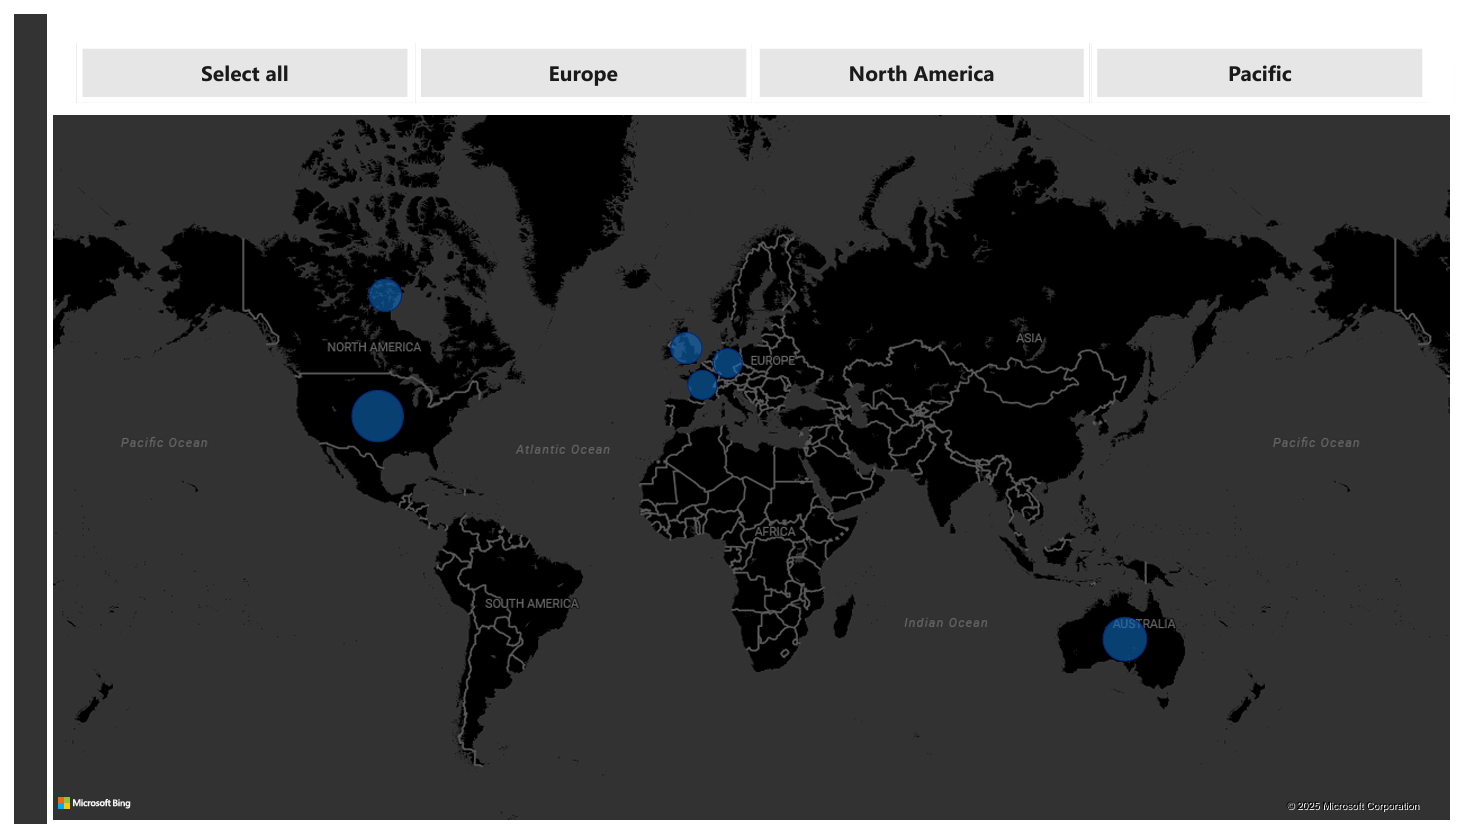

The dashboard page shown, as its layout file describes it:
{"tool":"powerbi","page":{"name":"MAP","canvas":[1280,720],"ordinal":1},"visuals":[{"type":"shape","box":[0,0,28.6,720],"z":0},{"type":"slicer","fields":{"Values":["Territory Lookup.Continent"]},"box":[28.6,18.3,1251.4,66.3],"z":1000},{"type":"map","fields":{"Category":["Territory Lookup.Country"],"Size":["Explicit Measure.Distinct Order"]},"box":[29,84,1251,636],"z":2000}]}

Visuals, with their boxes in screenshot pixels (x1, y1, x2, y2), scaled from the page's 1280x720 canvas onto the 1470x832 screenshot:
shape: select_region(0, 0, 33, 831)
slicer - Territory Lookup.Continent: select_region(33, 21, 1469, 98)
map - Territory Lookup.Country x Explicit Measure.Distinct Order: select_region(33, 97, 1469, 831)
